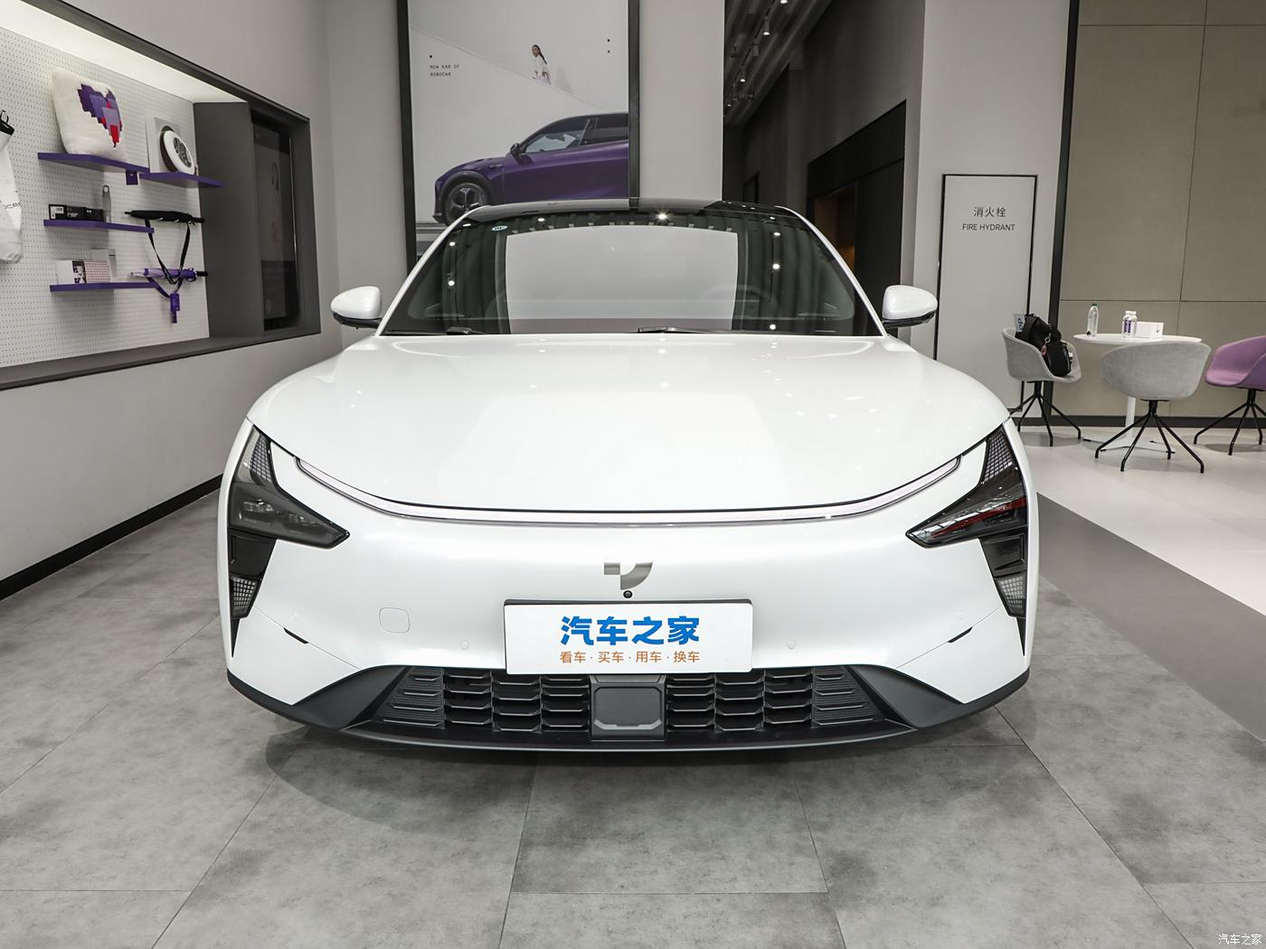JIYUE: (603, 561, 653, 590)
